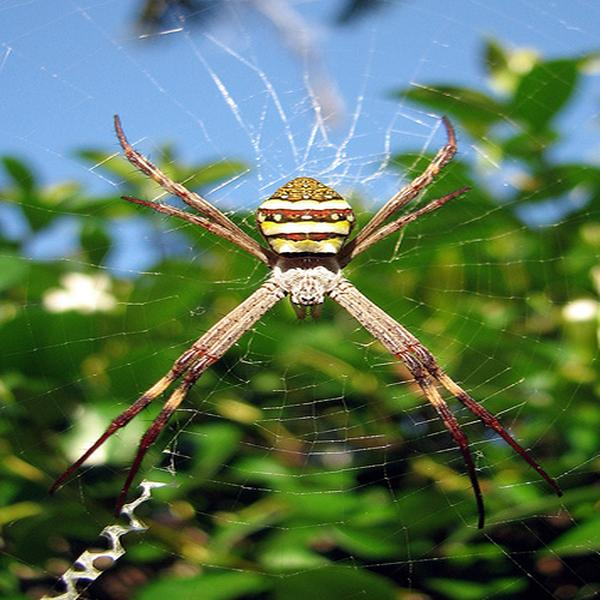St Andrew's Cross Spider: (66, 116, 555, 526)
